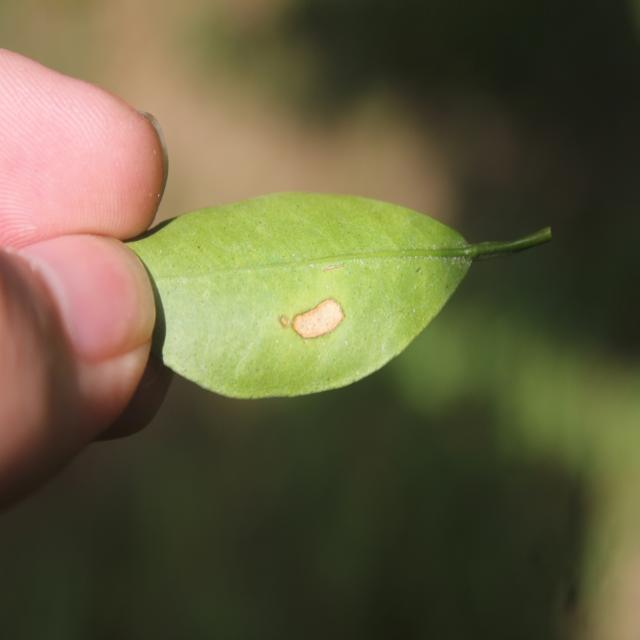canker: (264, 274, 352, 360)
